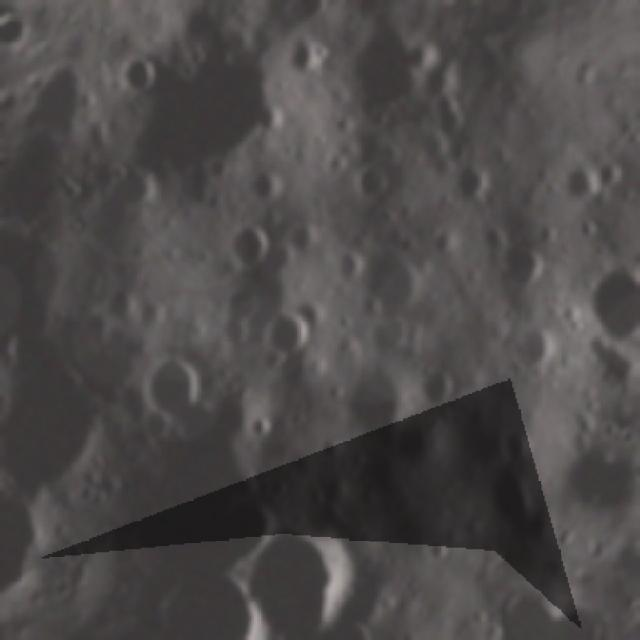crater: (242, 517, 372, 640), (344, 250, 442, 364), (136, 348, 218, 432), (577, 259, 640, 358), (477, 574, 560, 640), (480, 467, 548, 539), (99, 160, 166, 225), (213, 286, 270, 354), (497, 232, 551, 299), (411, 356, 464, 416), (263, 305, 317, 361), (224, 216, 274, 273), (513, 322, 561, 378), (348, 160, 403, 208), (113, 54, 162, 106), (287, 27, 336, 79), (555, 294, 596, 338), (559, 164, 603, 204), (246, 98, 286, 142), (243, 406, 282, 449), (548, 516, 580, 556), (572, 213, 608, 244), (426, 540, 454, 568)
